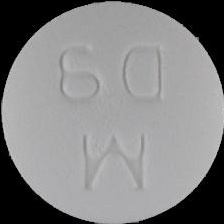0378-4021: (0, 0, 224, 224)
